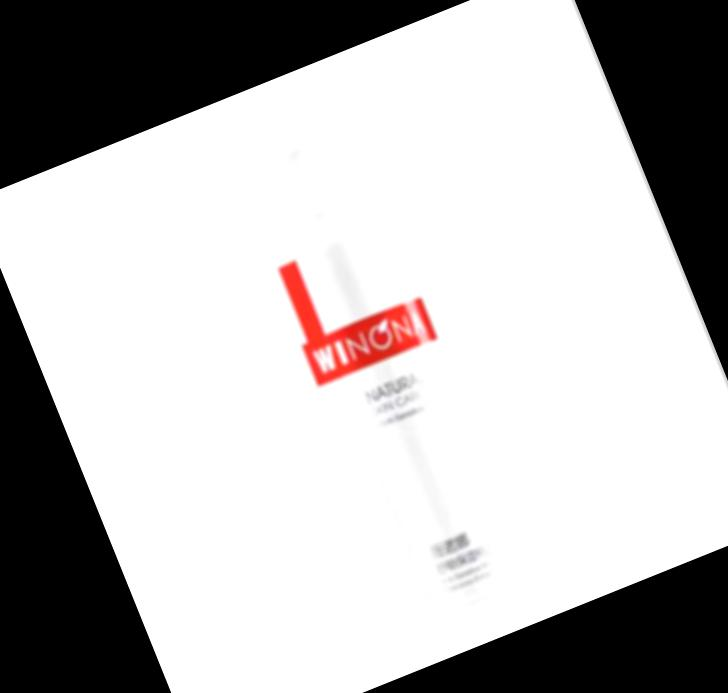cosmetic: (213, 84, 538, 630)
